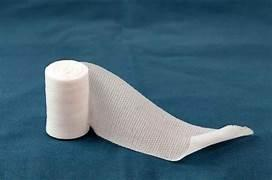cotton: (0, 0, 271, 179), (45, 60, 252, 160), (45, 61, 89, 138)
